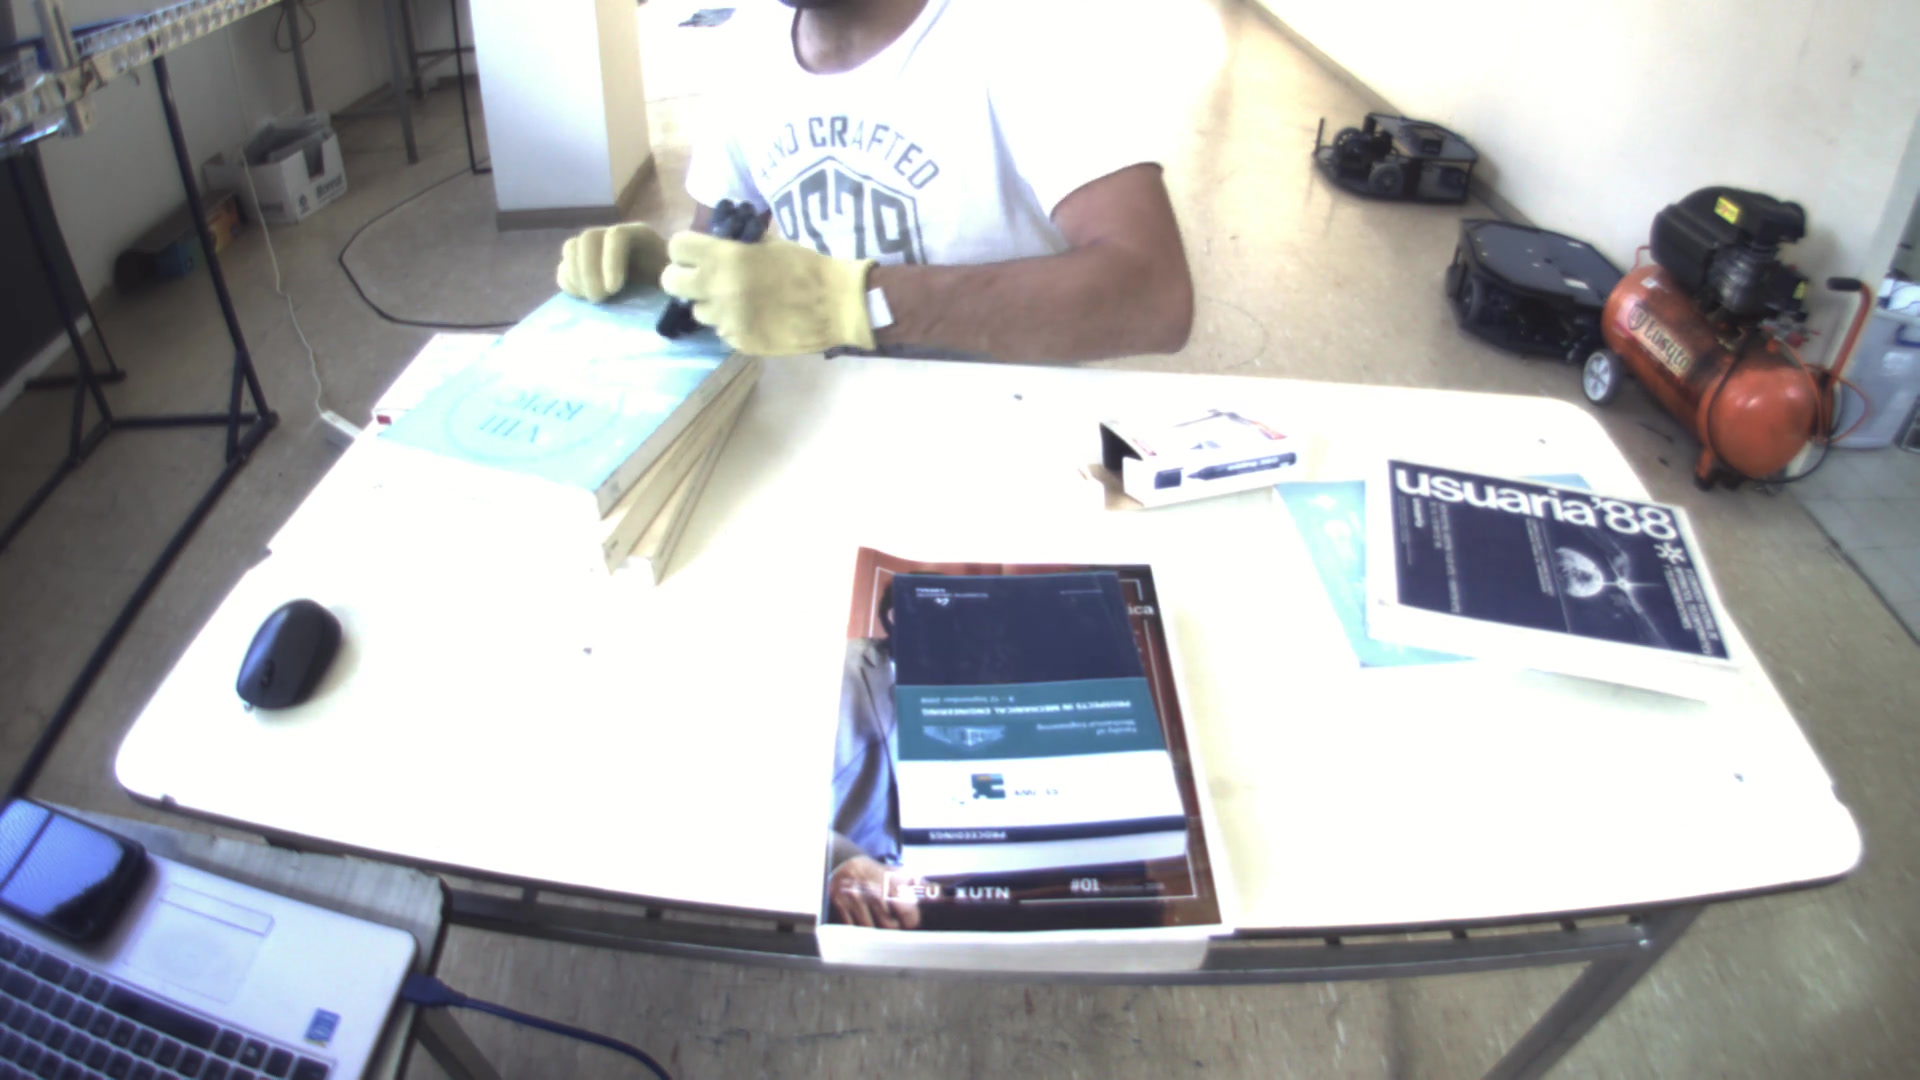hand: (651, 207, 880, 365), (553, 218, 666, 316)
